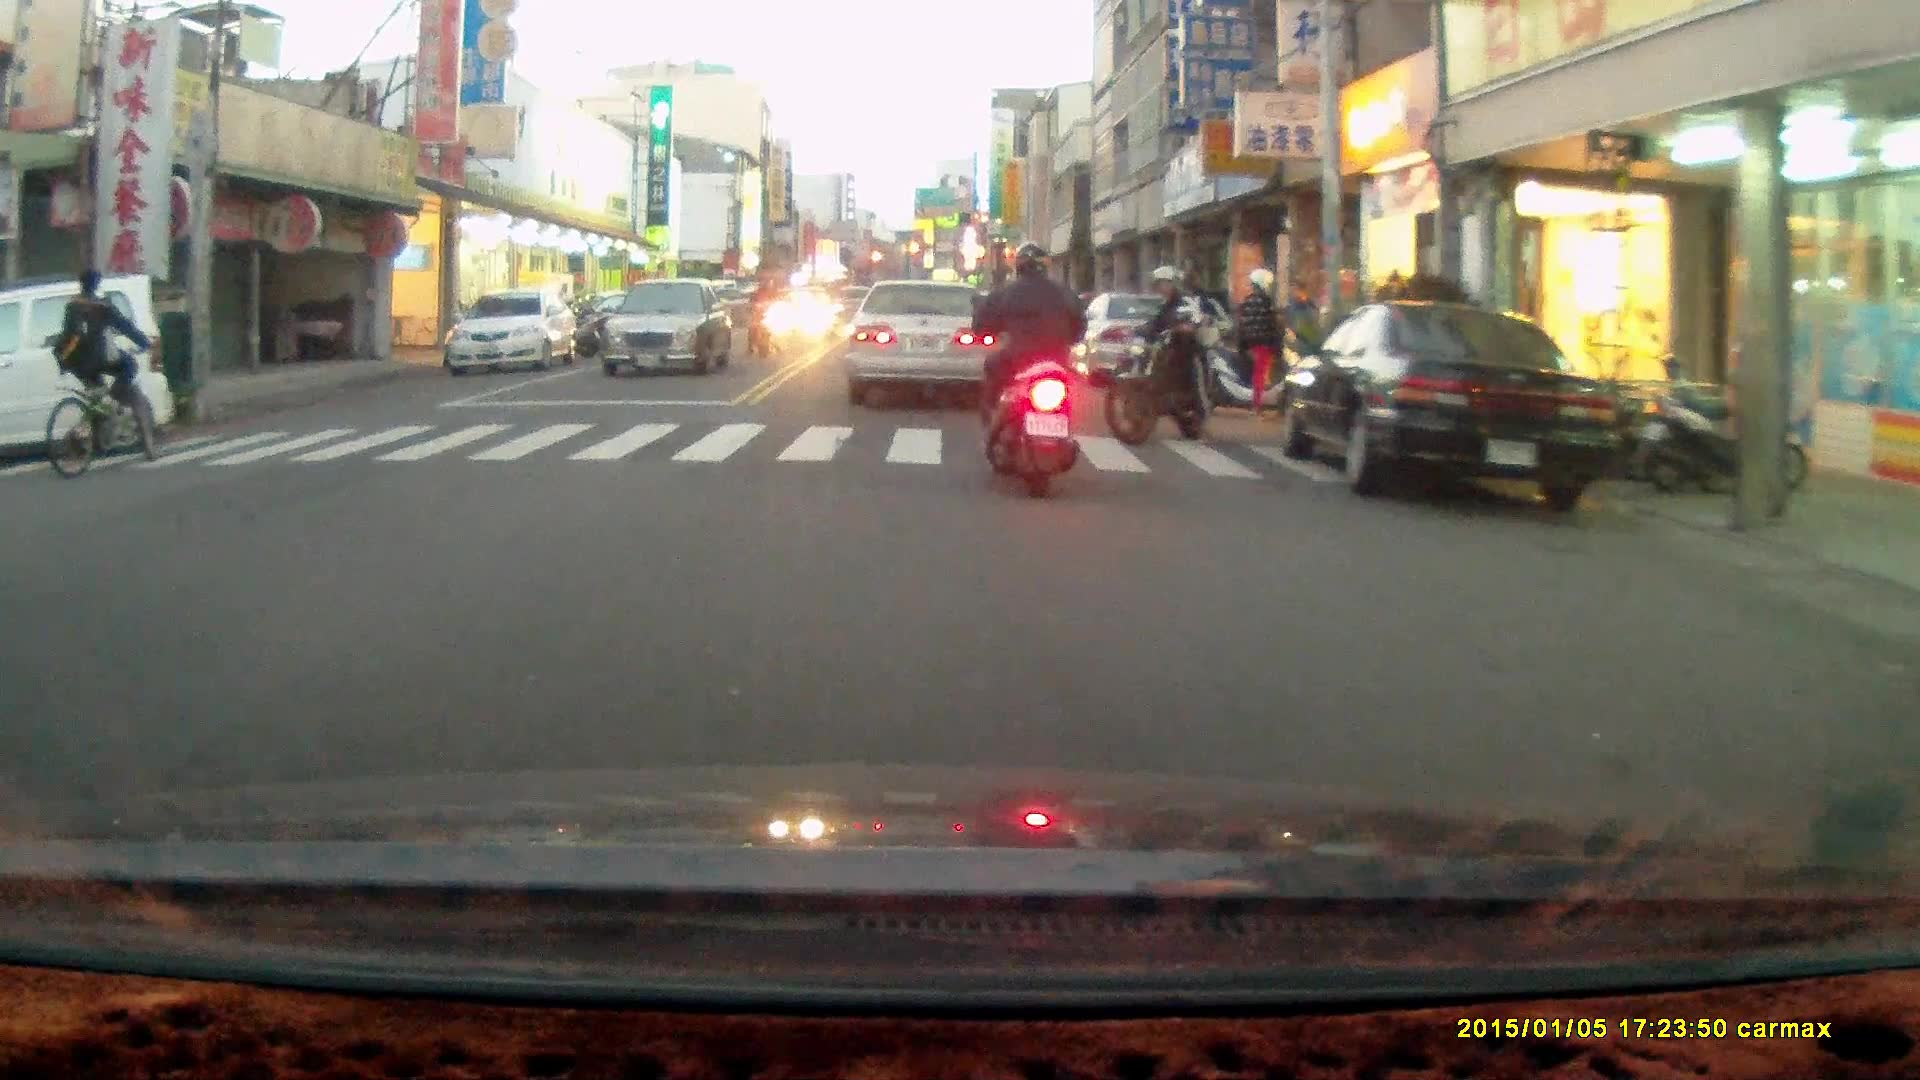pedestrian: (1241, 265, 1285, 421)
rider: (968, 239, 1090, 499), (38, 273, 153, 490), (1102, 261, 1236, 439), (741, 274, 783, 354)
vehicle: (1282, 302, 1616, 508), (1, 271, 182, 465), (851, 280, 1013, 408), (1071, 292, 1220, 392), (603, 279, 738, 381), (447, 289, 580, 373)
